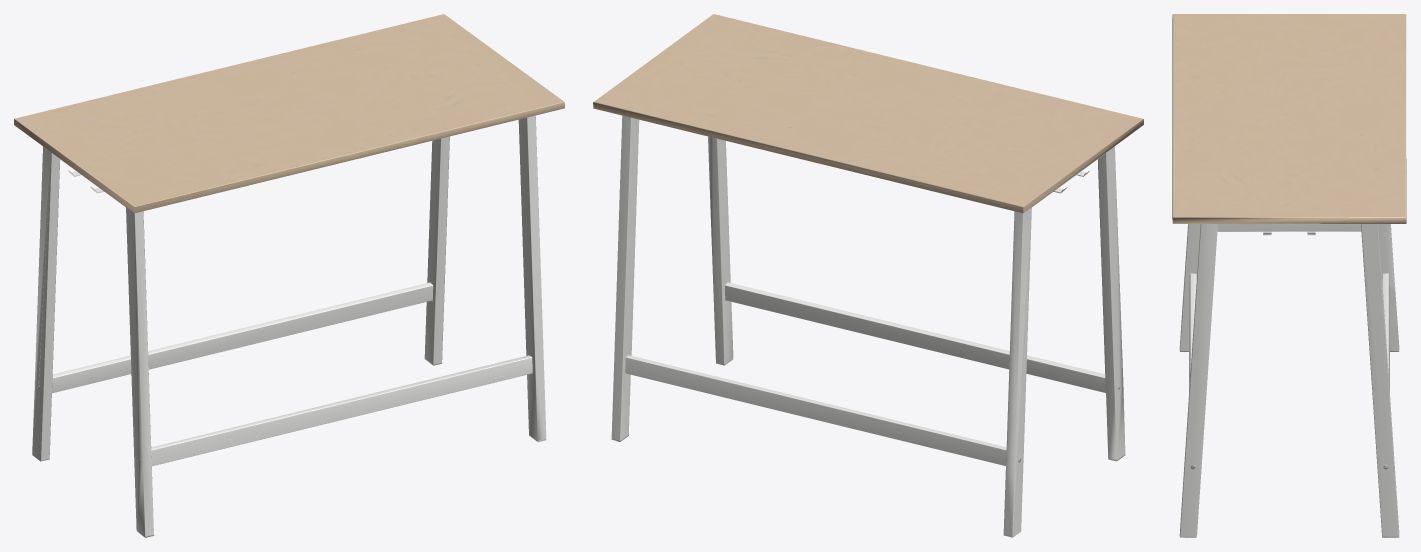
File: 03 - MITTZON - 會議桌, 實木貼皮, 樺木白色 140x68x105 公分 IKEA 線上購物.glb
3 renders of one model, left to right at view 1: azimuth 30°, elevation 25°; view 2: azimuth 150°, elevation 25°; view 3: azimuth 270°, elevation 25°, orthographic. The views are drawn at different scales.
Visible parts, largest first — view 1: Mesh_0; view 2: Mesh_0; view 3: Mesh_0.
Boxes of the visible parts, <box> form: Mesh_0: <box>14,14,564,537</box>; Mesh_0: <box>593,14,1143,537</box>; Mesh_0: <box>1172,14,1406,537</box>.
Size of the model in its own units: 1.4 by 1.05 by 0.6799.
Materials: 1 (1 with a texture image).
